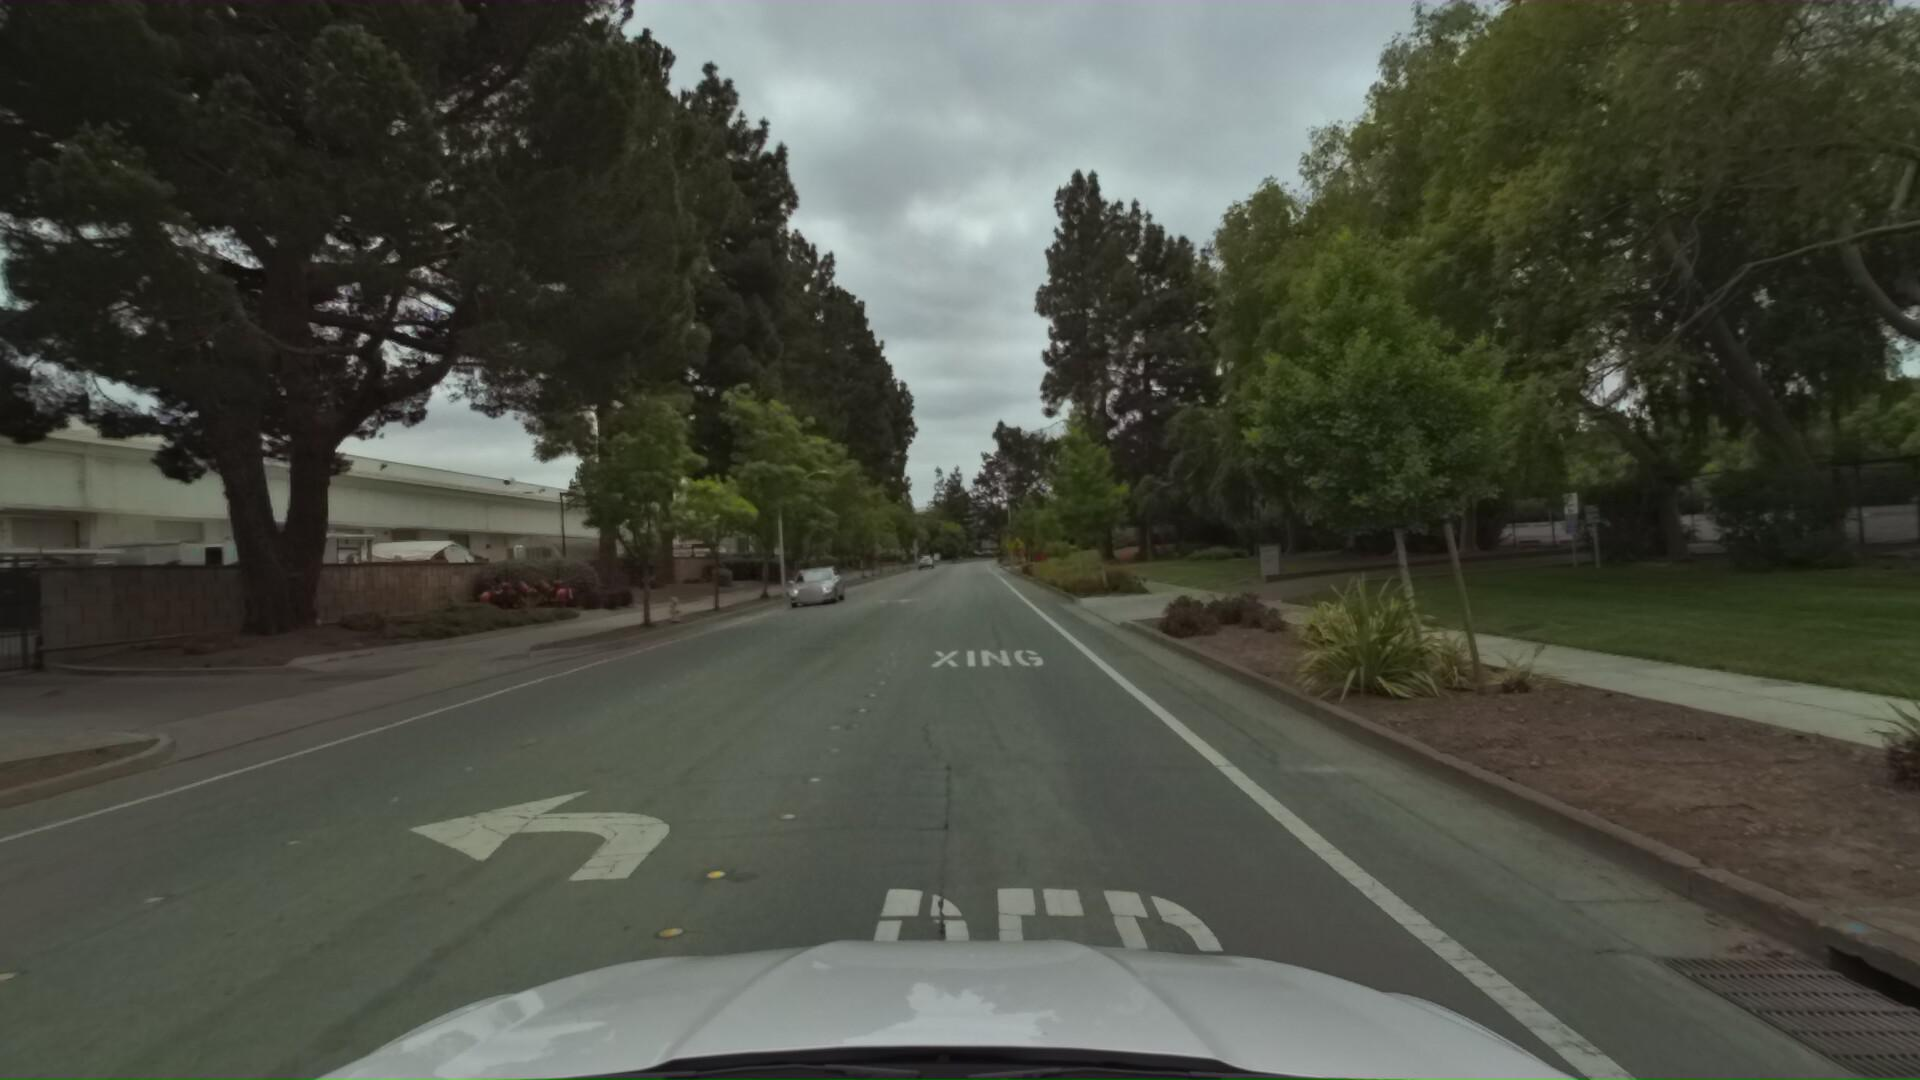car: (773, 564, 847, 617)
